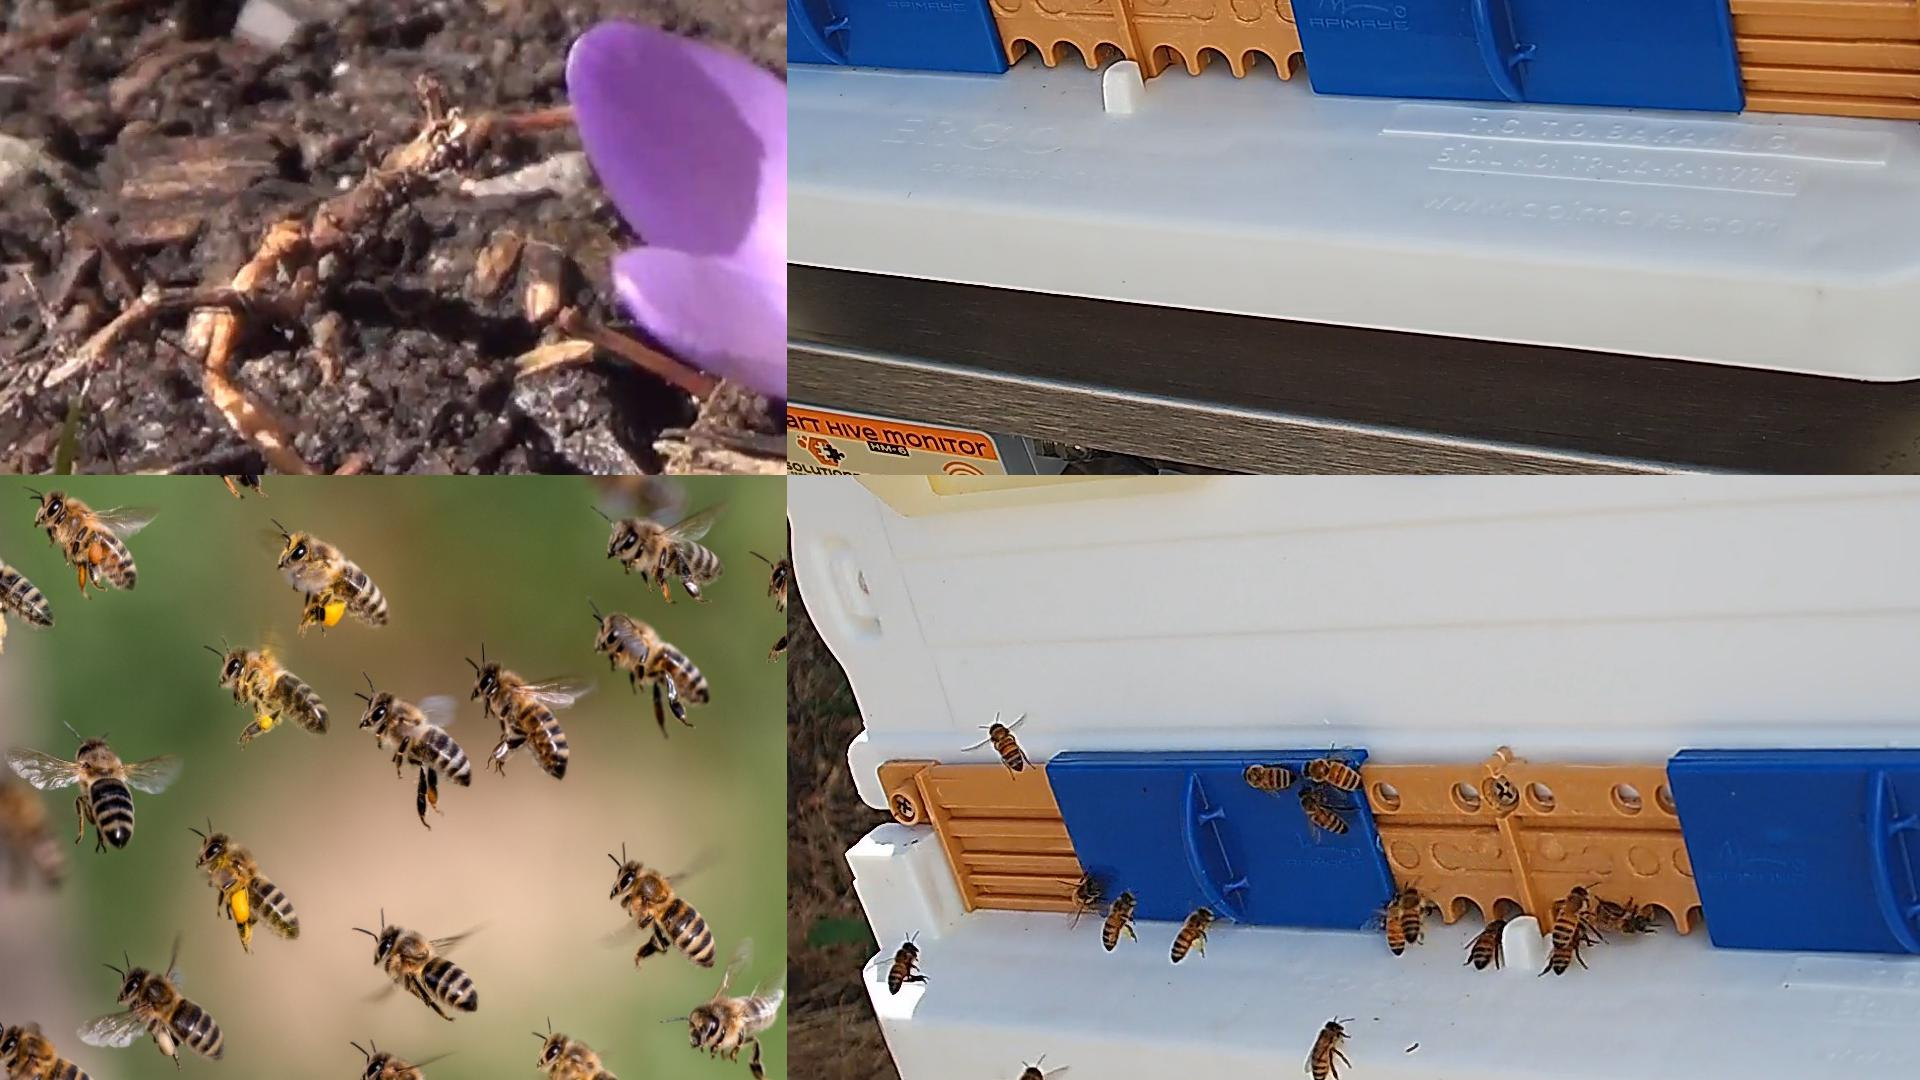bee: (472, 663, 568, 781), (595, 611, 709, 705), (359, 694, 473, 786), (613, 862, 715, 967), (375, 928, 477, 1013), (607, 517, 721, 579), (78, 740, 135, 848), (0, 790, 62, 882), (0, 1023, 96, 1079), (690, 994, 777, 1046), (0, 558, 55, 626), (541, 1034, 617, 1080), (592, 475, 684, 506), (1298, 786, 1349, 835), (1309, 1019, 1348, 1079), (1551, 887, 1586, 948), (1302, 758, 1366, 791), (1588, 905, 1654, 935), (1553, 918, 1586, 976), (1469, 919, 1507, 968), (988, 723, 1025, 773), (363, 1051, 425, 1079), (889, 944, 922, 990), (1244, 764, 1295, 791), (1402, 887, 1425, 944), (1385, 901, 1406, 953), (1075, 878, 1104, 913), (767, 558, 786, 611), (1009, 1067, 1046, 1079)
pollenbee: (199, 835, 298, 936), (281, 534, 388, 626), (37, 495, 136, 589), (123, 969, 223, 1059), (223, 650, 330, 731), (1170, 907, 1212, 960), (1101, 890, 1138, 949)
